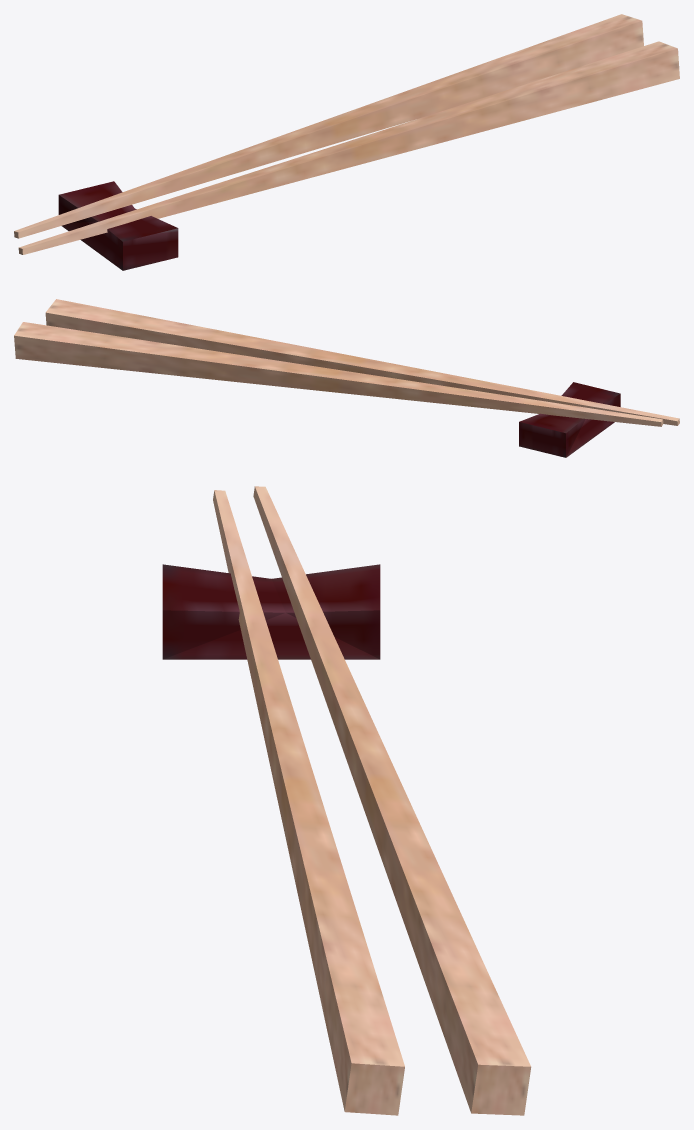
File: it_chopsticks02.fbx
The picture shows the model from 3 angles, top to bottom: view 1: azimuth 30°, elevation 25°; view 2: azimuth 150°, elevation 25°; view 3: azimuth 270°, elevation 25°; orthographic projection. The views are drawn at different scales.
Parts seen in each view (by area): view 1: mesh_0; view 2: mesh_0; view 3: mesh_0.
Part boxes in pixels (box(x1,y1,x2,y2)): mesh_0: box(14, 14, 679, 270); mesh_0: box(14, 299, 679, 457); mesh_0: box(162, 486, 531, 1115).
Size of the model in its own units: 25.11 by 1.29 by 6.78.
Materials: 1 (1 with a texture image).
